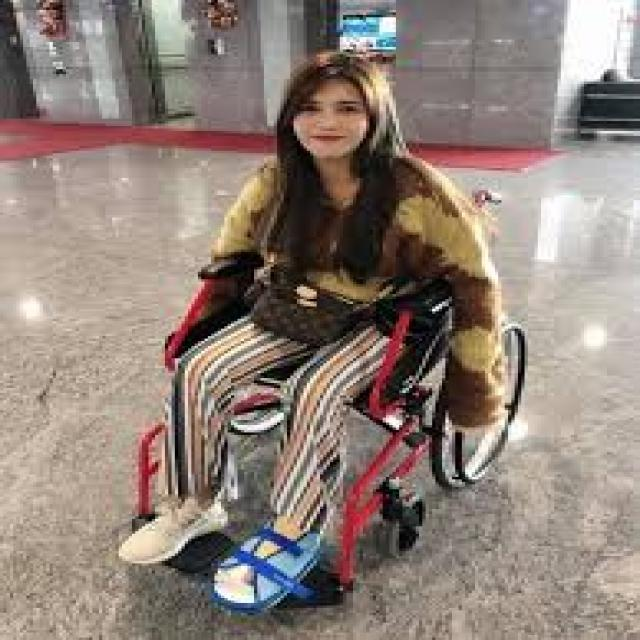wheelchairs: (125, 161, 568, 620)
